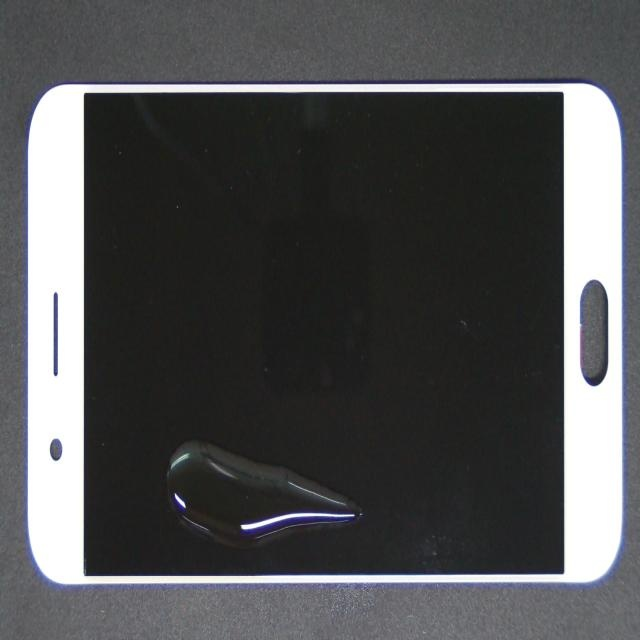oil: (55, 303, 423, 640)
